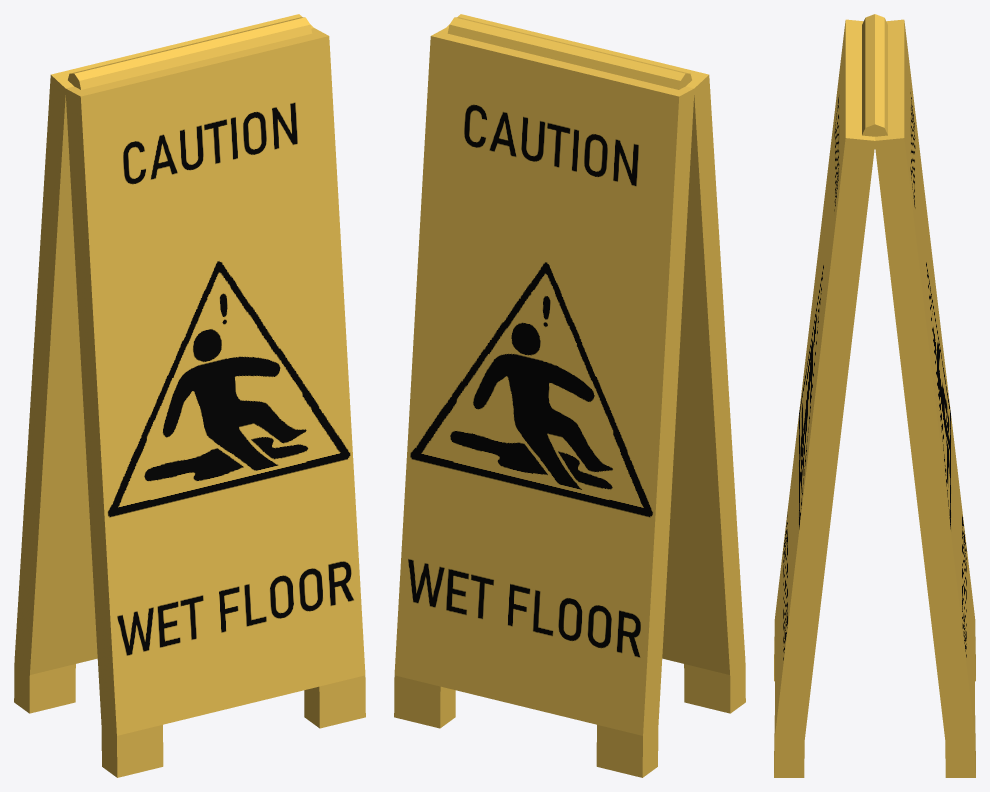
The model's file is Elements_CautionWetFloor.fbx.
3 renders of one model, left to right at view 1: azimuth 30°, elevation 25°; view 2: azimuth 150°, elevation 25°; view 3: azimuth 270°, elevation 25°, orthographic. The views are drawn at different scales.
Parts seen in each view (by area): view 1: sign; view 2: sign; view 3: sign.
Part boxes in pixels (bbox=[...]): sign: bbox=[14, 14, 365, 777]; sign: bbox=[394, 14, 745, 777]; sign: bbox=[774, 14, 975, 777].
Bounding box in the file's own units: 0.204 × 0.5211 × 0.1468.
1 material, 1 textured.
